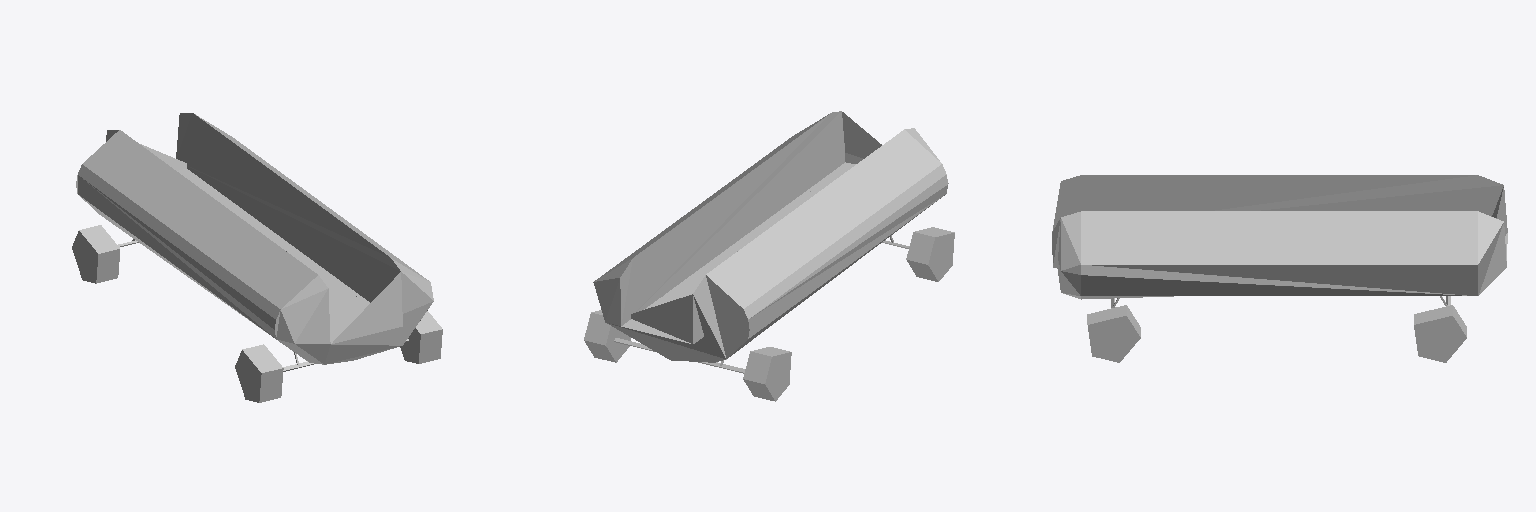
The model's file is CarShadowModel.obj.
3 renders of one model, left to right at view 1: azimuth 30°, elevation 25°; view 2: azimuth 150°, elevation 25°; view 3: azimuth 270°, elevation 25°, orthographic.
Visible parts, largest first — view 1: Low_Torus.003; view 2: Low_Torus.003; view 3: Low_Torus.003.
Part boxes in pixels (left/top/right/bottom): Low_Torus.003: left=72, top=113, right=442, bottom=402; Low_Torus.003: left=584, top=111, right=954, bottom=401; Low_Torus.003: left=1052, top=175, right=1507, bottom=362.
Size of the model in its own units: 1.87 by 1.24 by 4.06.